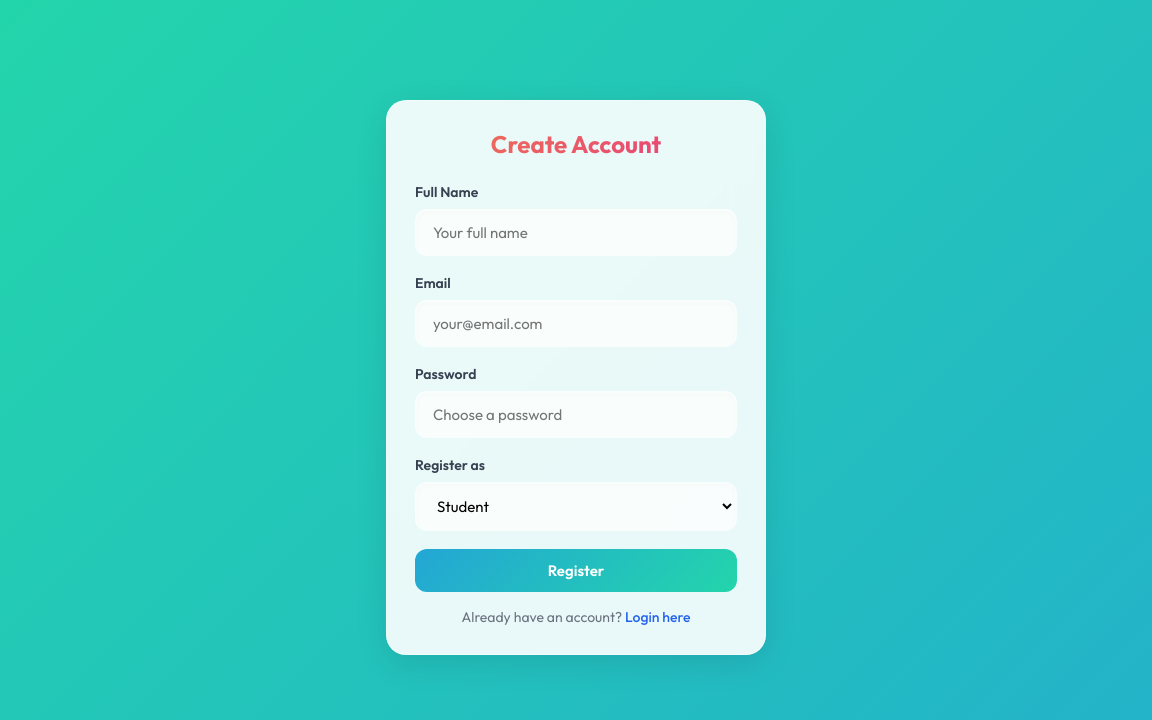
RegisterPage White Box Tests › handles successful registration
In the field with placeholder "Your full name": {"x": 576, "y": 232} 415,209 -> 737,256, type "Alice"
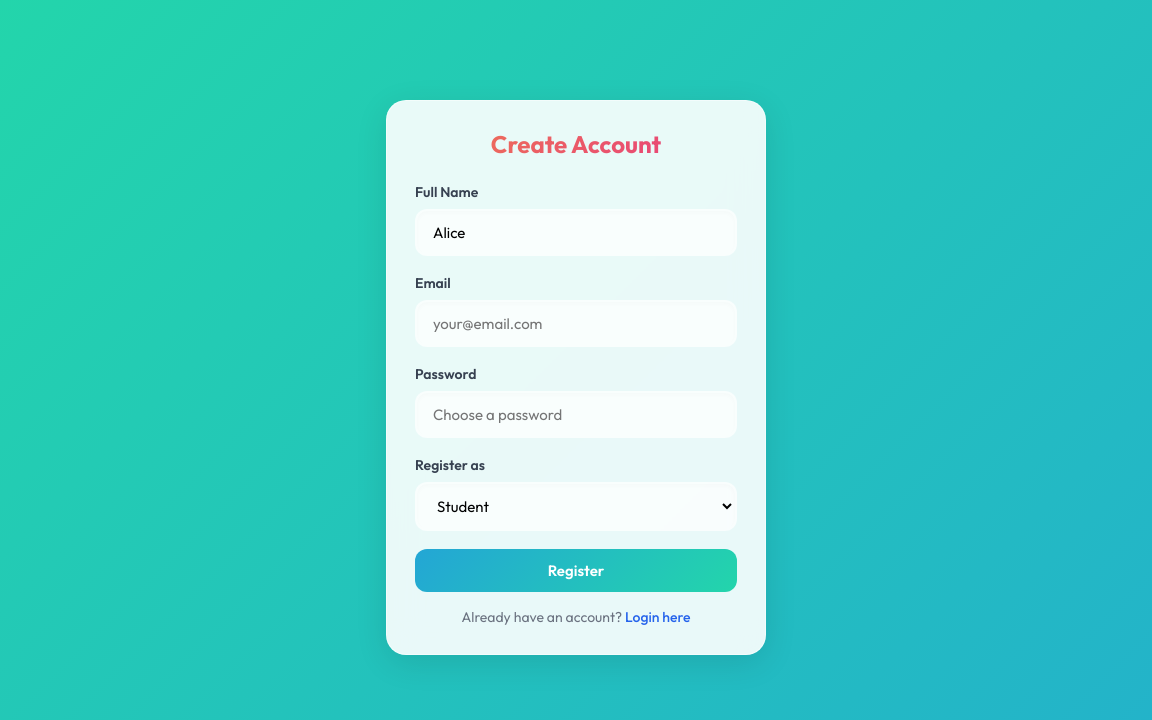
In the field with placeholder "your@email.com": {"x": 576, "y": 324} 415,300 -> 737,347, type "alice@test.com"
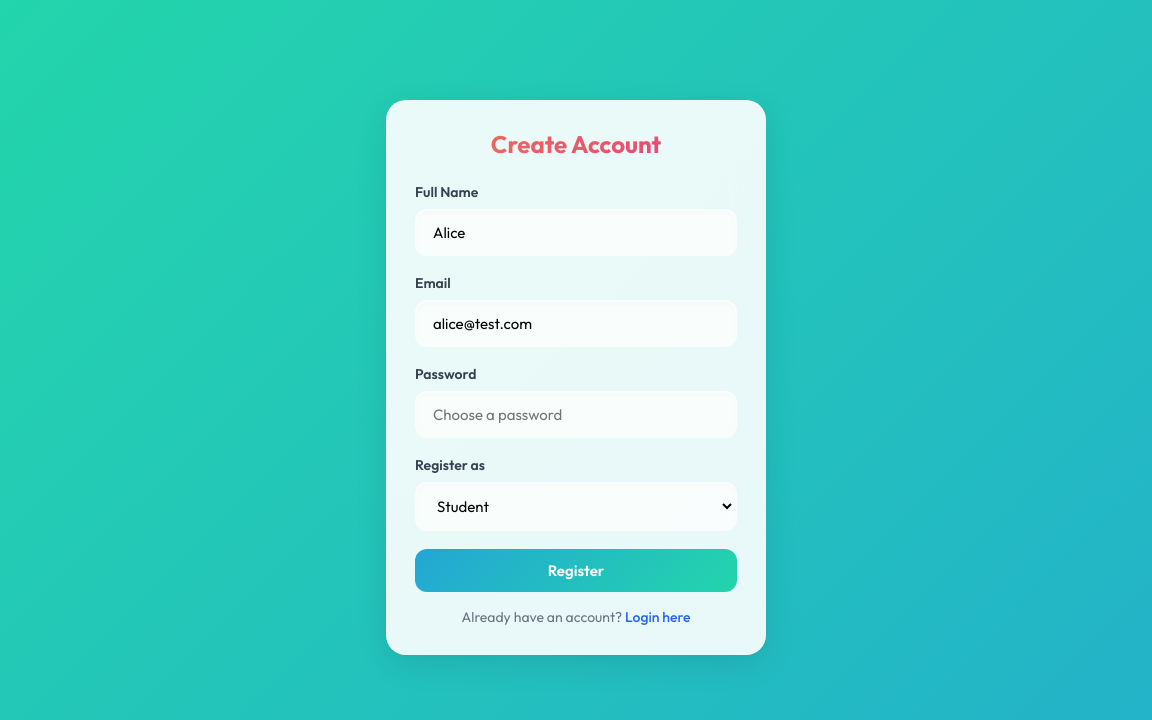
In the password field with placeholder "Choose a password": {"x": 576, "y": 414} 415,391 -> 737,438, type "pass123"
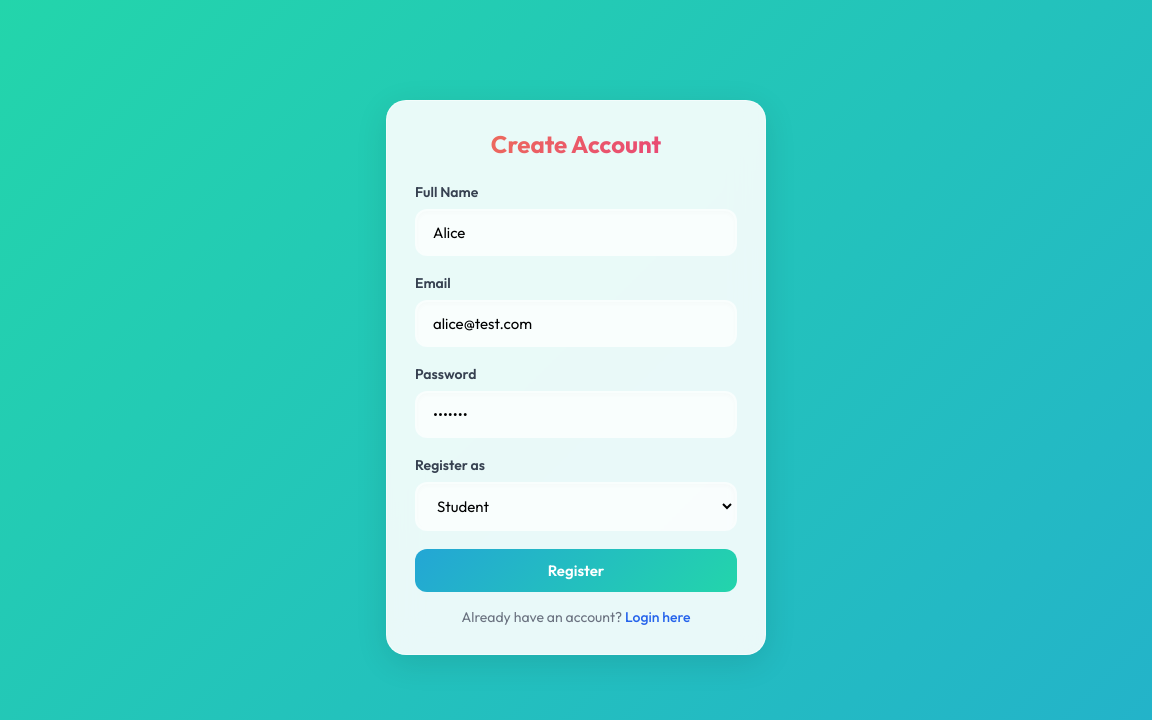
Click the button "Register": {"x": 576, "y": 570} 415,549 -> 737,592
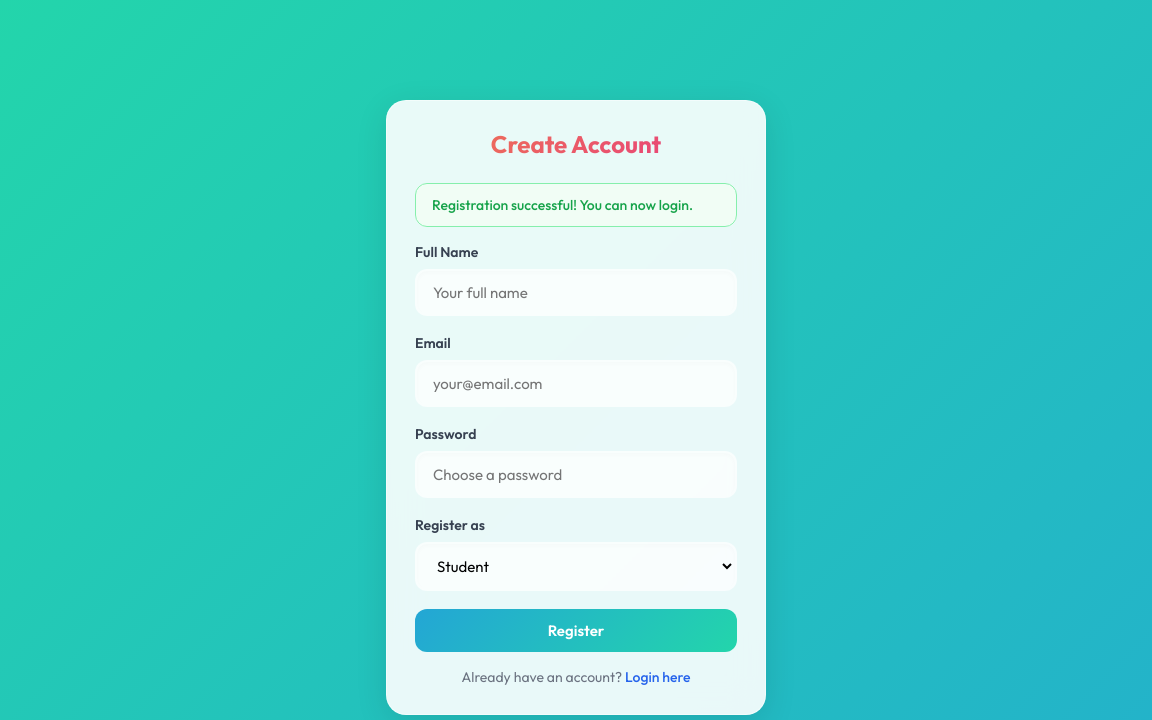
Expected: the text "Registration successful! You can now login." is shown, 415,183 -> 737,227
Expected: the field with placeholder "Your full name" is empty, 415,269 -> 737,316
